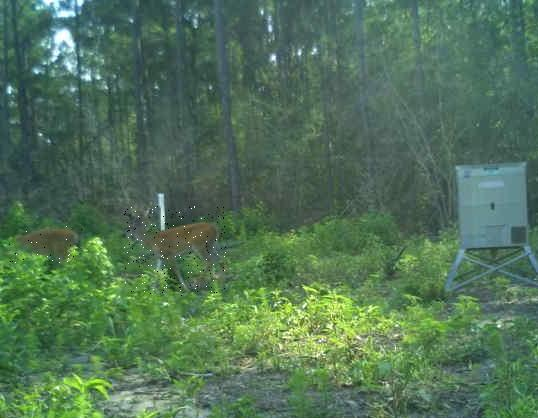Deer: (124, 206, 226, 297), (9, 227, 83, 264)
